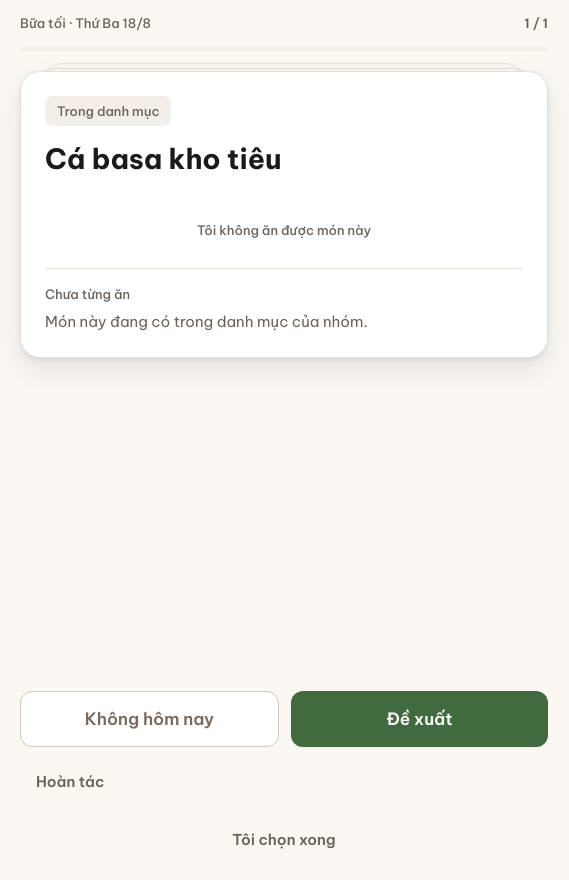
it: S-09 Deck vuốt › bấm Tôi chọn xong thì chuyển Xong lượt của bạn
What coordinates should you click on to do the following:
click the button with aria-label "Tôi chọn xong, dừng vuốt cho lượt này"
I would click on:
 (284, 840)
Its box is [20,817,548,863].
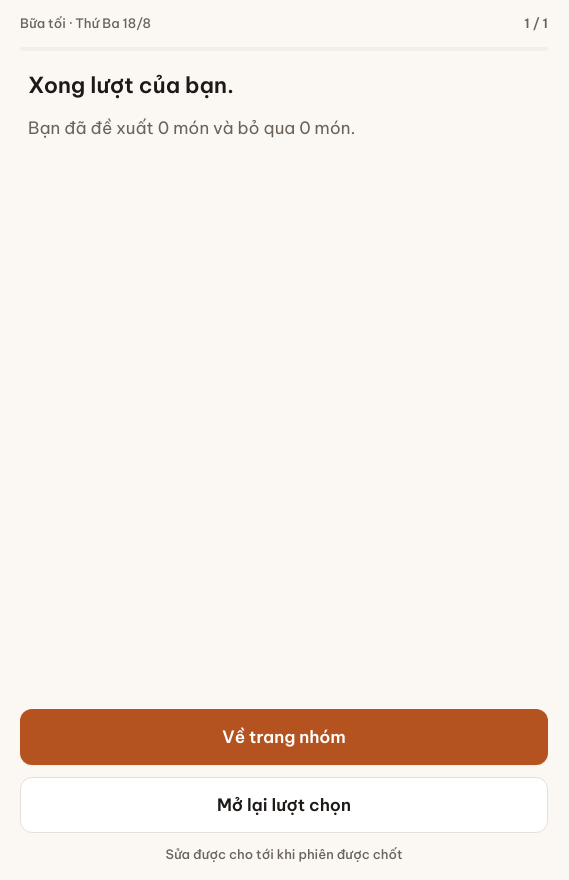
Result: the heading "Xong lượt của bạn." is shown at [28,71,234,99]
Result: the button "Mở lại lượt chọn" is shown at [20,777,548,833]
